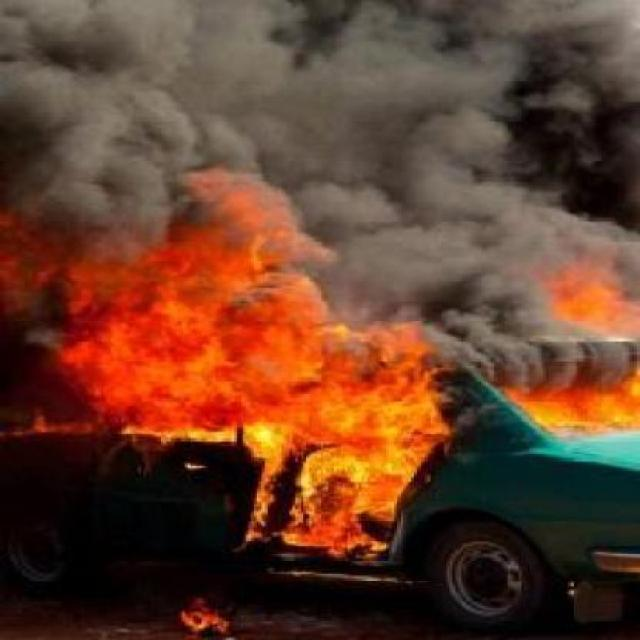Fire: (22, 155, 640, 606)
Smoke: (146, 22, 598, 279)
